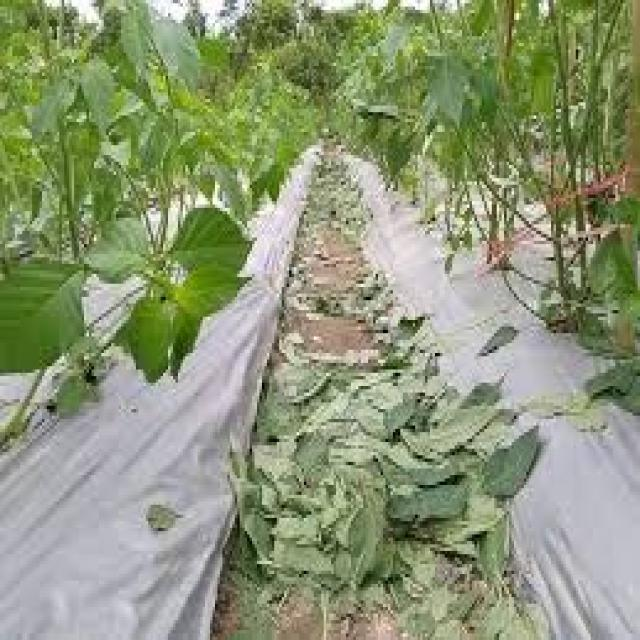Mosaic_virus: (340, 0, 639, 433), (0, 0, 232, 409)
